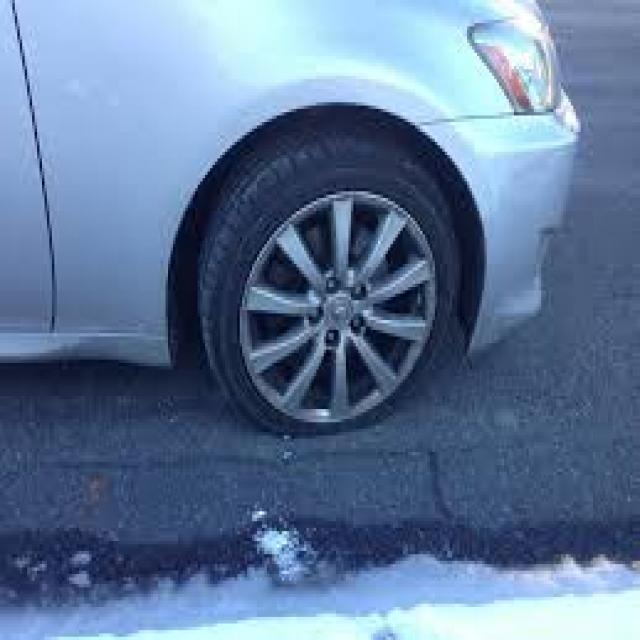minor: (493, 25, 594, 222)
